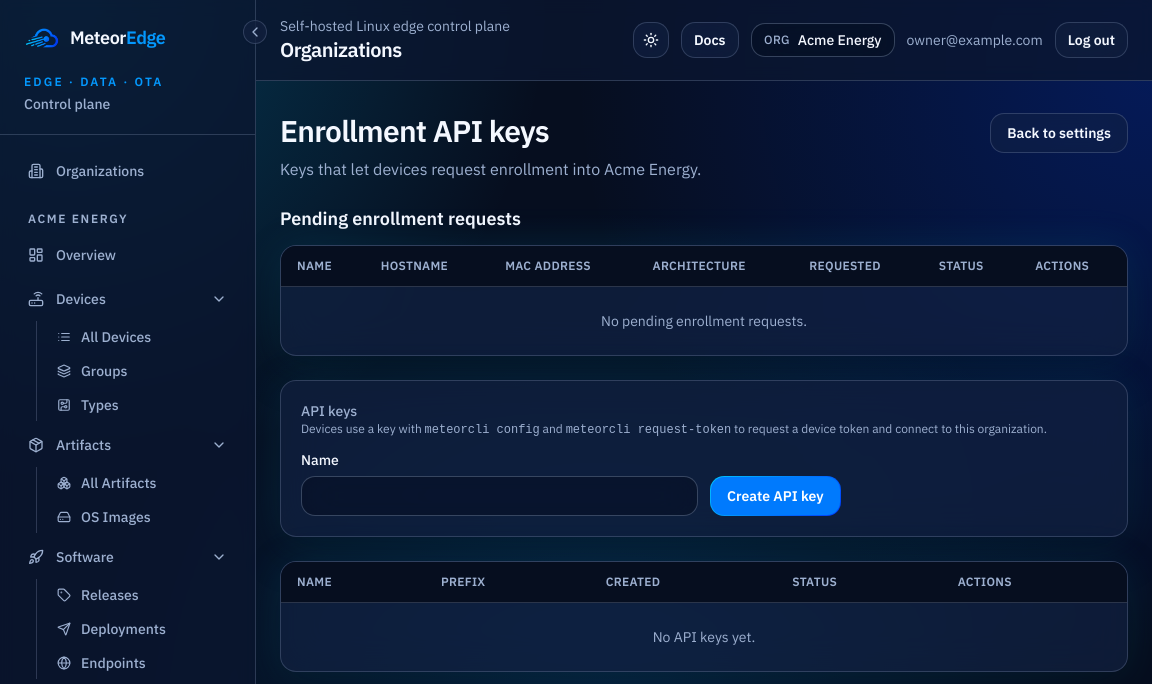
API keys › creates an API key and shows the plaintext once
In the field labelled "Name": coordinates (500, 496) [301,476,698,516], type "Field techs"
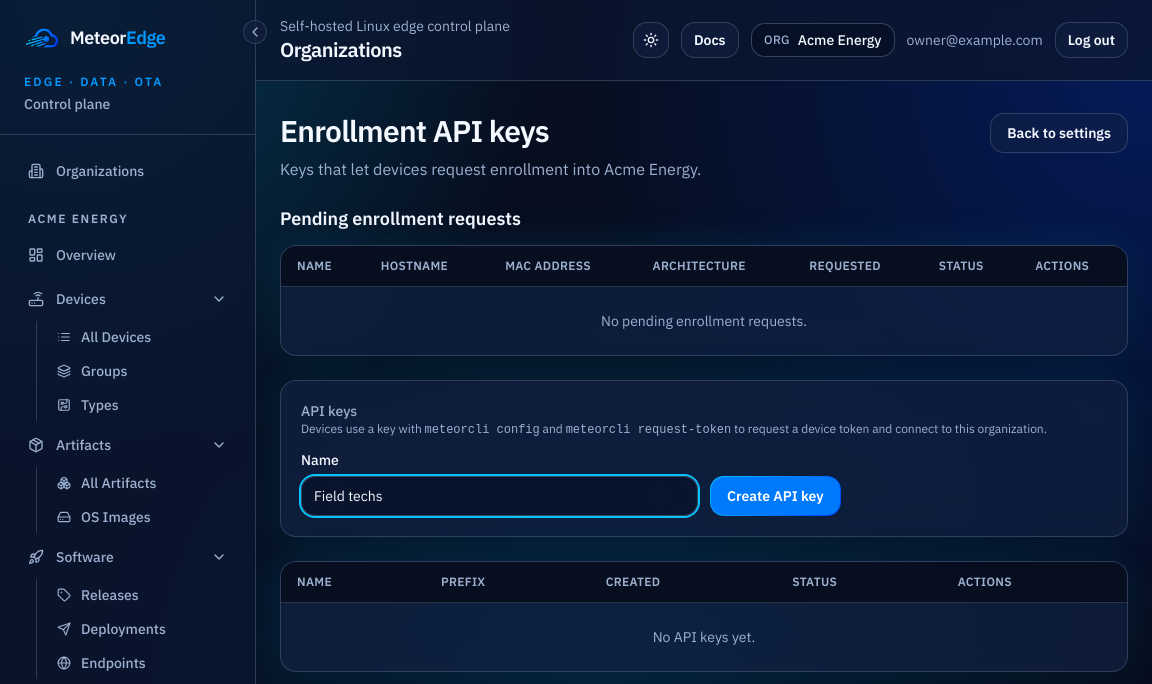
Click the button "Create API key": coordinates (775, 496) [710,476,840,516]
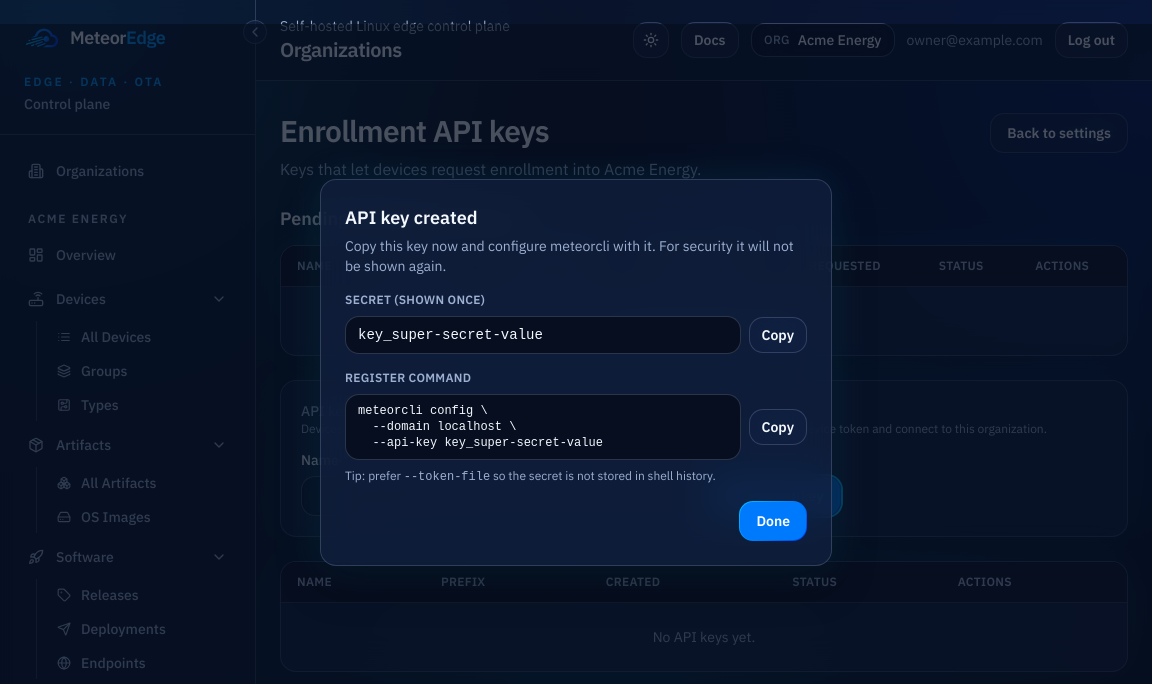
Now the text "key_super-secret-value" is shown, box [345,316,740,354]
